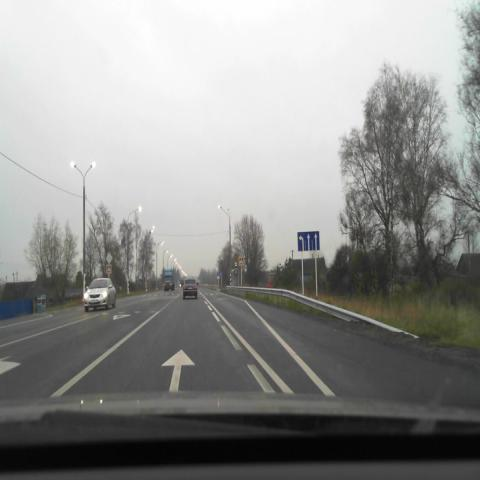5_15_1: (298, 231, 320, 251)
